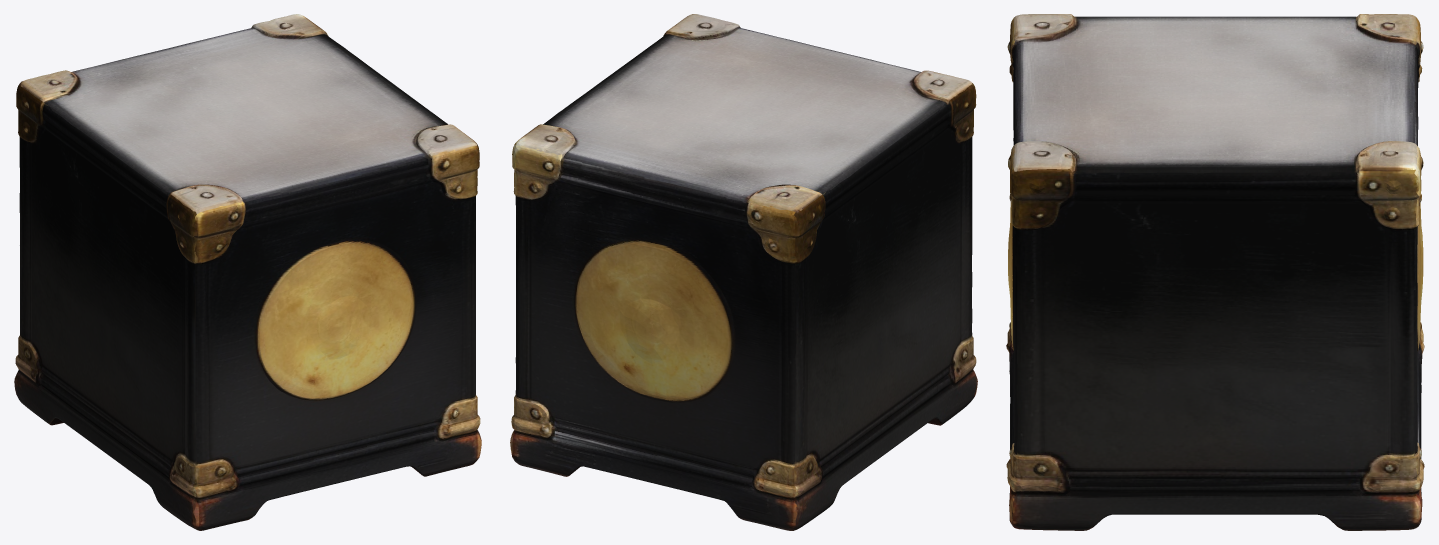
The model's file is traveler_env_coast_kamen_sun_reliquary_00001_.glb.
3 renders of one model, left to right at view 1: azimuth 30°, elevation 25°; view 2: azimuth 150°, elevation 25°; view 3: azimuth 270°, elevation 25°, orthographic. The views are drawn at different scales.
Visible parts, largest first — view 1: temp_mesh.ply; view 2: temp_mesh.ply; view 3: temp_mesh.ply.
Boxes of the visible parts, x1,y1,x2,y2 form: temp_mesh.ply: (14, 14, 481, 530); temp_mesh.ply: (510, 14, 977, 530); temp_mesh.ply: (1006, 14, 1424, 530).
Size of the model in its own units: 1.57 by 1.66 by 1.72.
1 material, 1 textured.
